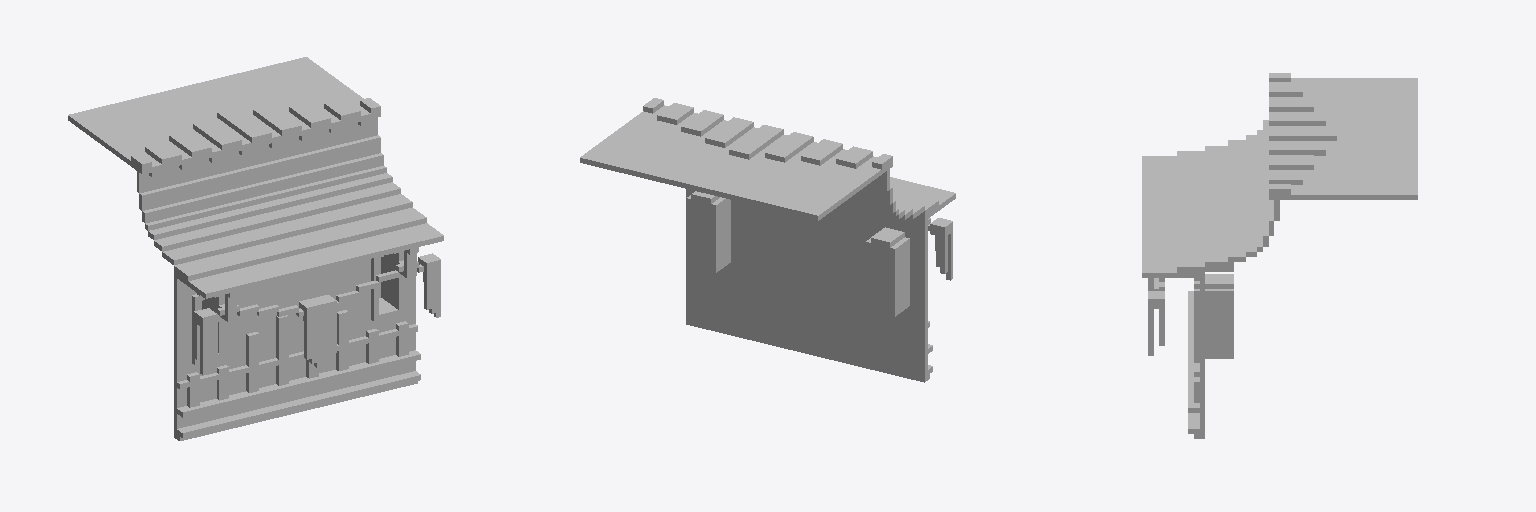
The model's file is villaGreyUpperWall-0.obj.
The picture shows the model from 3 angles: view 1: azimuth 30°, elevation 25°; view 2: azimuth 150°, elevation 25°; view 3: azimuth 270°, elevation 25°; orthographic projection.
Visible parts, largest first — view 1: object 1; view 2: object 1; view 3: object 1.
Boxes of the visible parts, <box> form: object 1: <box>68,57,443,440</box>; object 1: <box>580,98,955,382</box>; object 1: <box>1142,73,1417,438</box>.
Size of the model in its own units: 4.8 by 4.8 by 4.8.